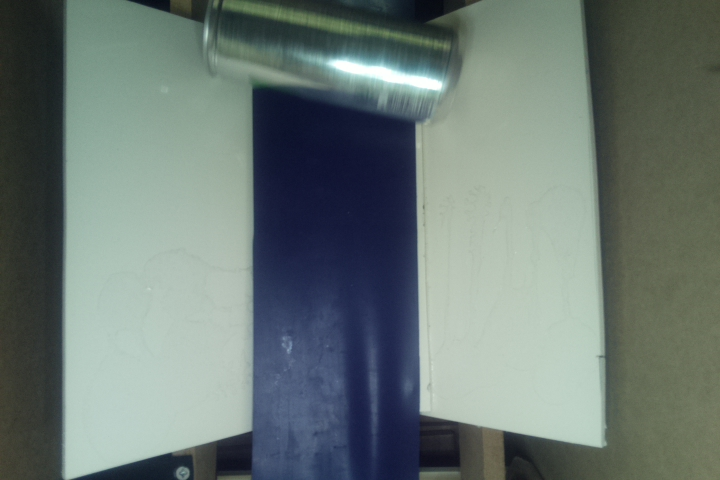can: (200, 1, 467, 130)
